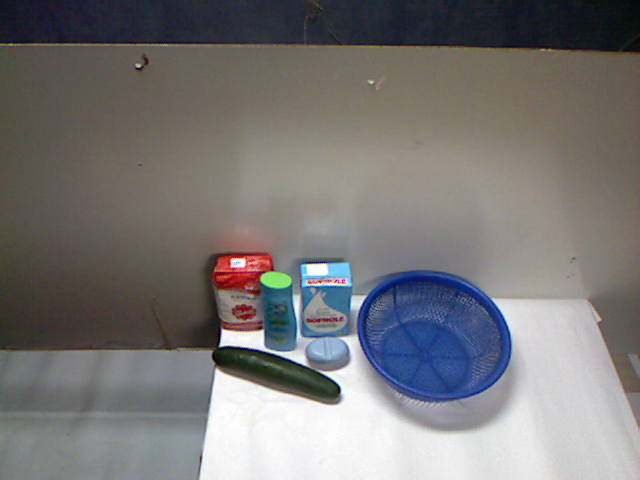cera: (341, 229, 398, 342)
desodorante: (260, 281, 294, 329)
estuche: (216, 322, 284, 404)
guante: (379, 292, 484, 441)
jugoind: (298, 276, 336, 335)
platano: (283, 346, 389, 403)
